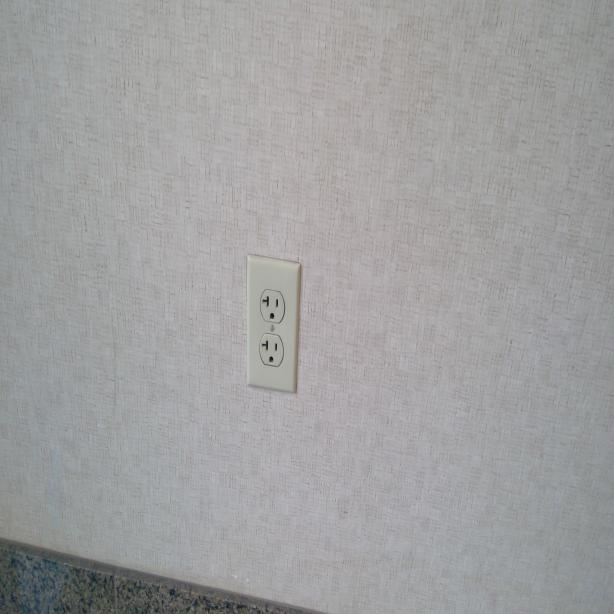typeb: (260, 290, 285, 324), (260, 335, 283, 368)
